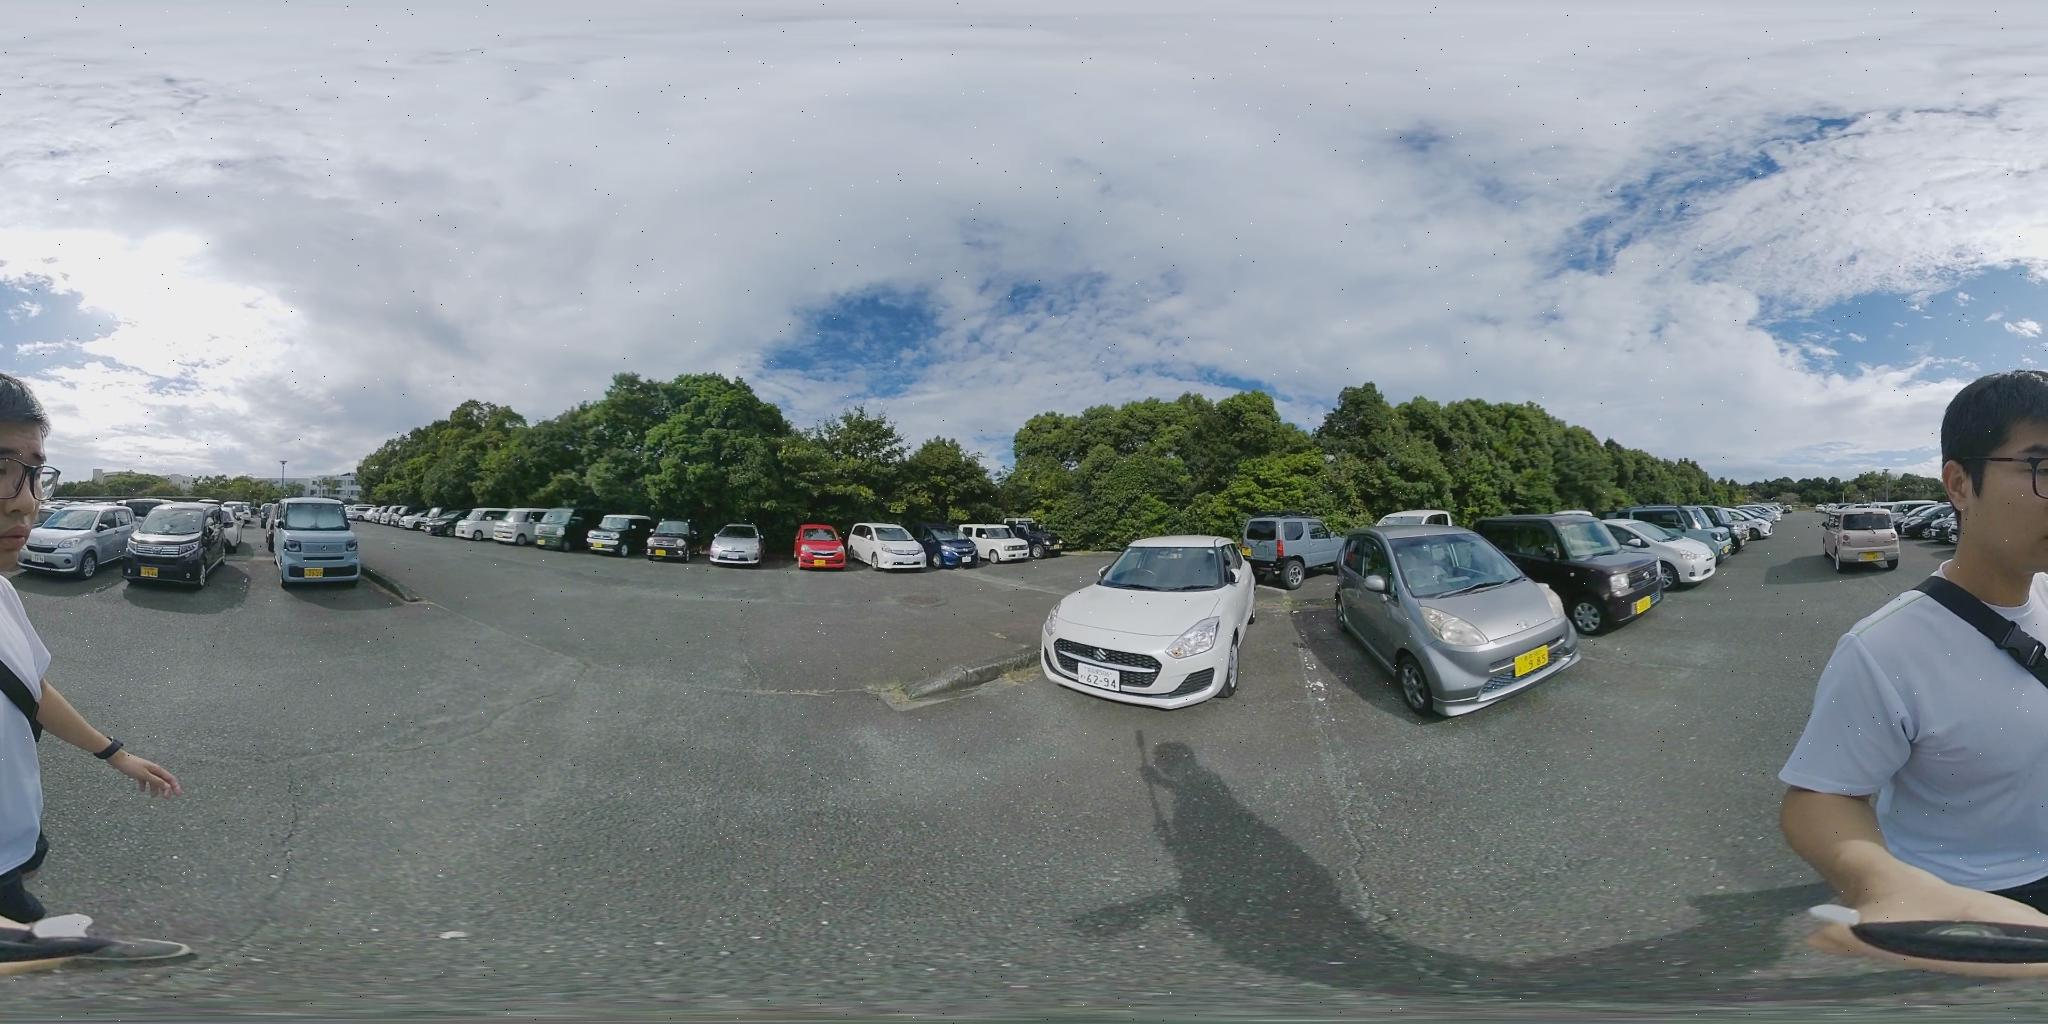car: (1313, 525, 1586, 716), (1037, 537, 1253, 705), (1462, 515, 1674, 637), (10, 505, 142, 581), (1599, 509, 1727, 583), (123, 505, 238, 584), (1237, 516, 1344, 586), (1821, 508, 1906, 572), (848, 522, 934, 568), (647, 517, 703, 563), (461, 512, 541, 543), (589, 515, 649, 555), (797, 525, 852, 568), (1900, 502, 1962, 539), (711, 524, 764, 567), (538, 509, 594, 550), (1731, 509, 1782, 543), (935, 537, 982, 567)
